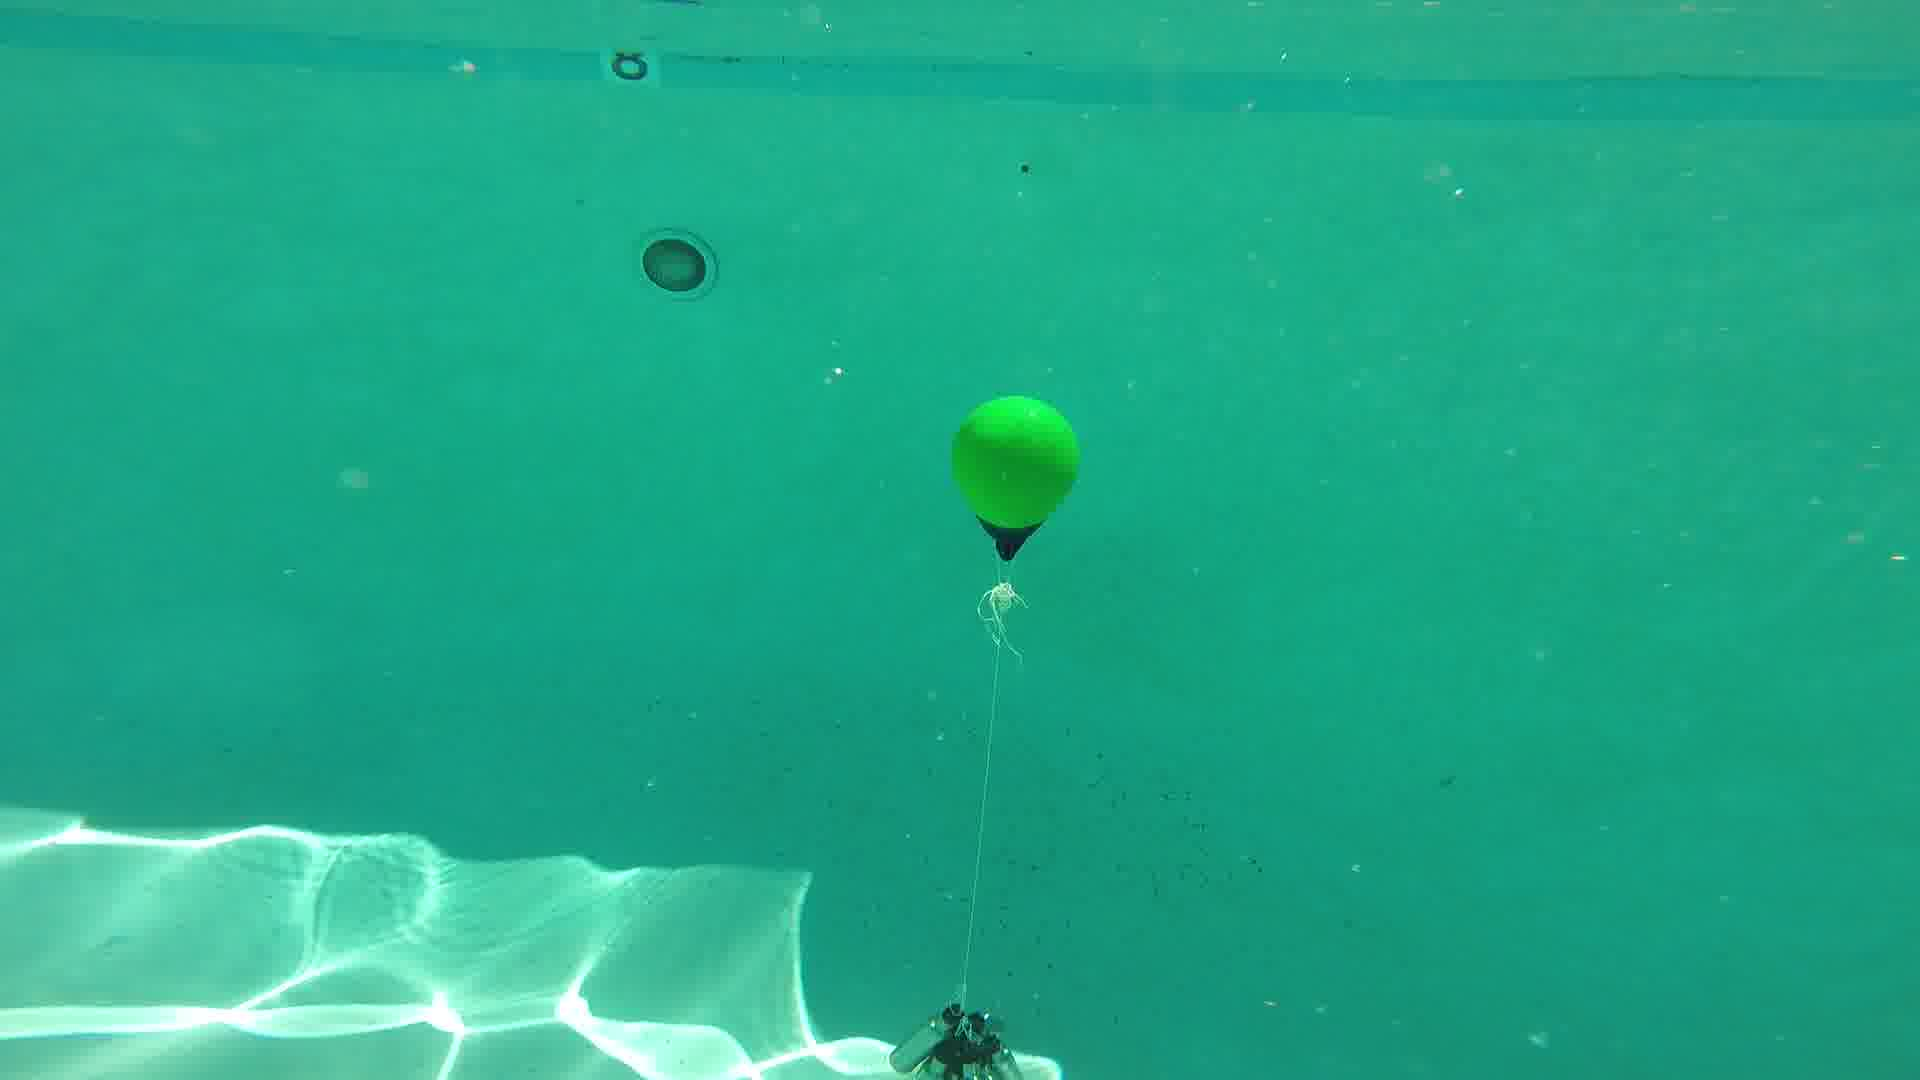yellow_buoy: (953, 392, 1081, 567)
